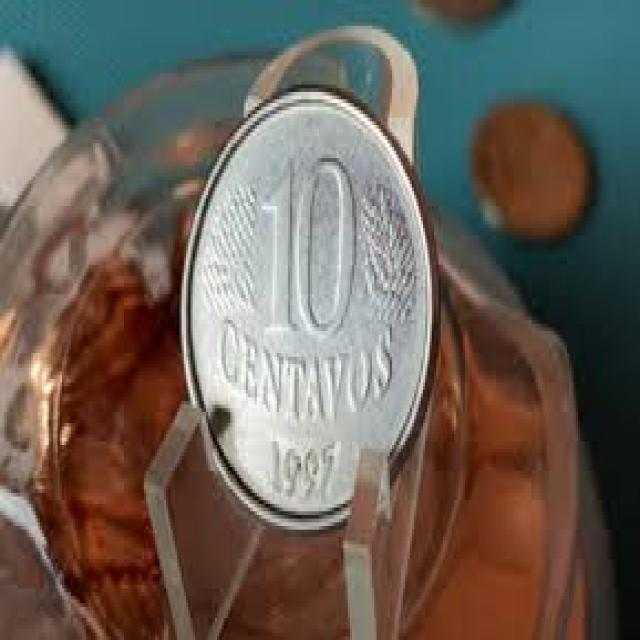10 cent: (187, 90, 425, 516)
